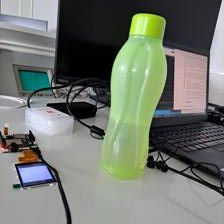bottle: (96, 12, 169, 180)
